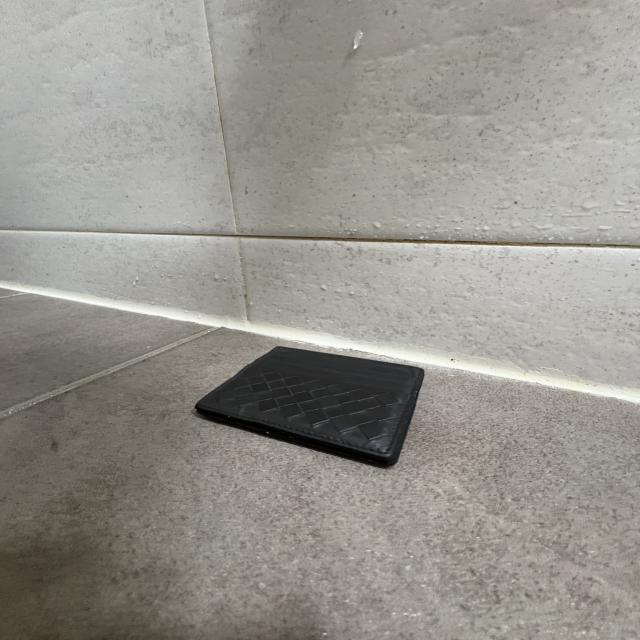wallet: (195, 344, 428, 470)
